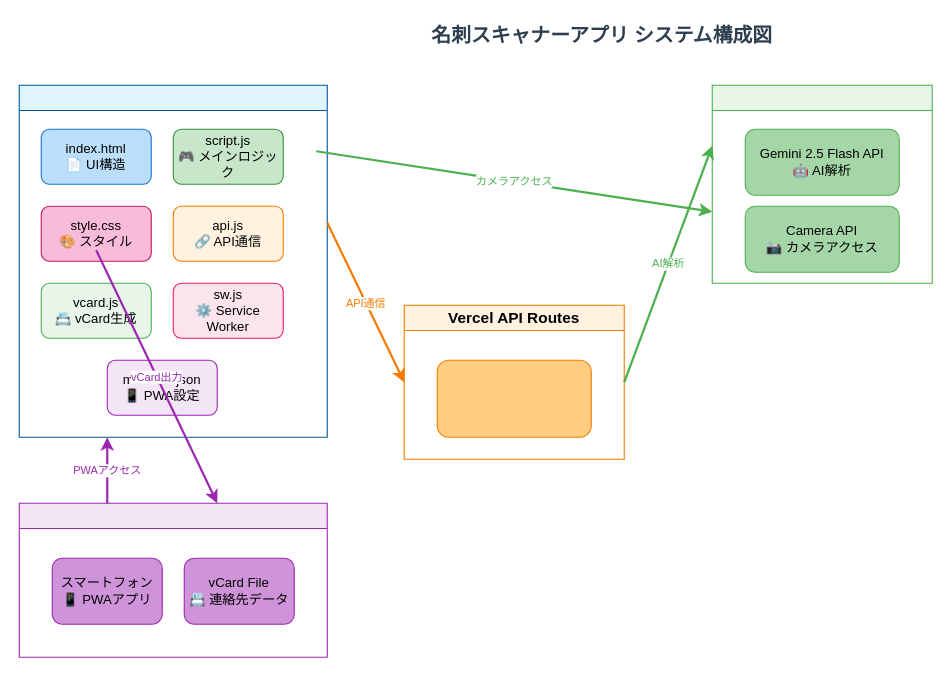
The diagram is 952 pixels wide and 677 high, and some of its shapes have lost their labels. Here are the shapes that lost their labels. From the top down, the box of each, then its label:
(711, 84, 932, 283): External Services
(18, 84, 327, 437): Frontend (PWA)
(436, 359, 591, 437): /api/analyze.js 🧠 Gemini API統合
(18, 502, 327, 657): User Devices
